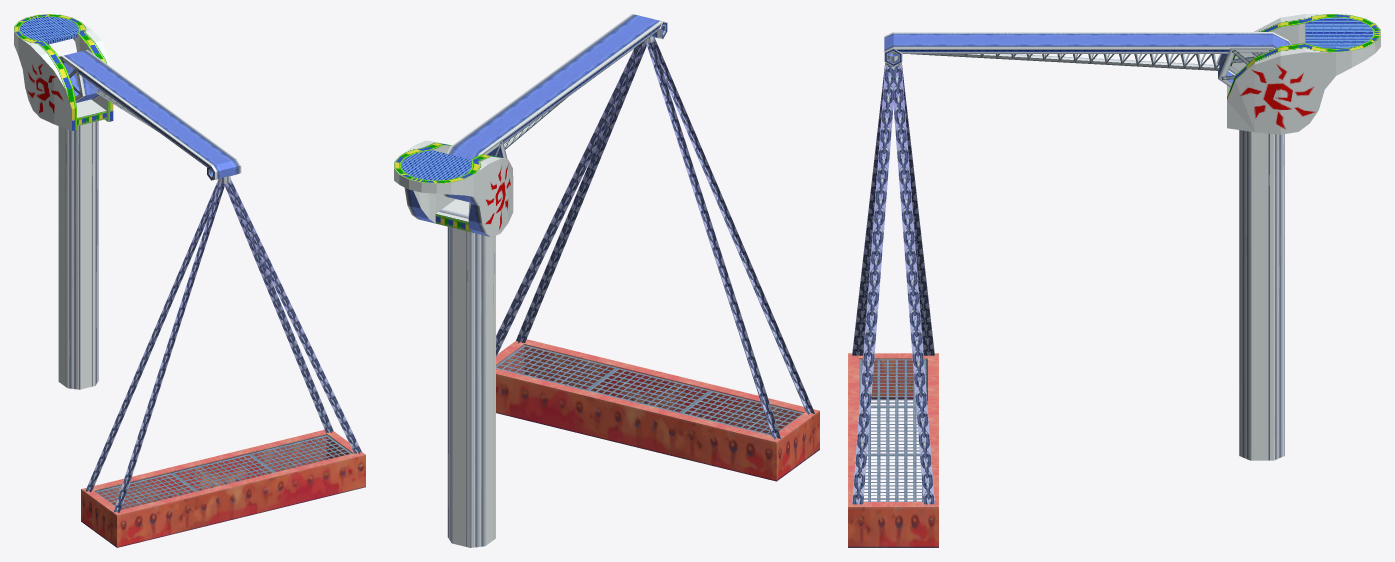
The model's file is crane90scene2_bake.dae.
3 renders of one model, left to right at view 1: azimuth 30°, elevation 25°; view 2: azimuth 150°, elevation 25°; view 3: azimuth 270°, elevation 25°, orthographic. The views are drawn at different scales.
Visible parts, largest first — view 1: m0, m2, m1, m1_VC; view 2: m0, m2, m1, m1_VC; view 3: m0, m2, m1, m1_VC.
Part boxes in pixels (left/top/right/bottom): m0: left=14, top=14, right=241, bottom=389; m2: left=81, top=430, right=365, bottom=547; m1: left=85, top=182, right=361, bottom=512; m1_VC: left=85, top=179, right=361, bottom=512; m0: left=394, top=14, right=667, bottom=547; m2: left=496, top=339, right=819, bottom=481; m1: left=496, top=42, right=814, bottom=439; m1_VC: left=496, top=39, right=814, bottom=439; m0: left=884, top=14, right=1380, bottom=460; m2: left=848, top=353, right=938, bottom=547; m1: left=852, top=66, right=934, bottom=504; m1_VC: left=852, top=62, right=934, bottom=504.
Bounding box in the file's own units: 1600 × 2131 × 2346.
4 materials, 4 textured.
